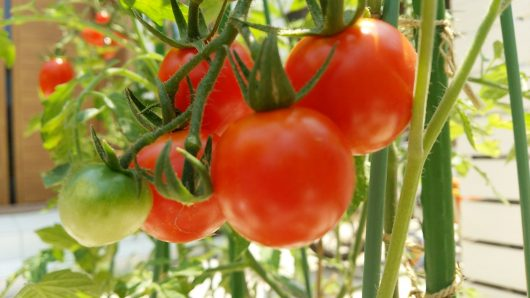stems: (160, 38, 219, 121), (116, 110, 191, 172), (238, 25, 277, 107), (182, 1, 206, 46), (319, 1, 341, 28)
tomato: (211, 108, 356, 246), (279, 18, 417, 157), (123, 130, 227, 244), (159, 38, 262, 132), (57, 157, 152, 248)
